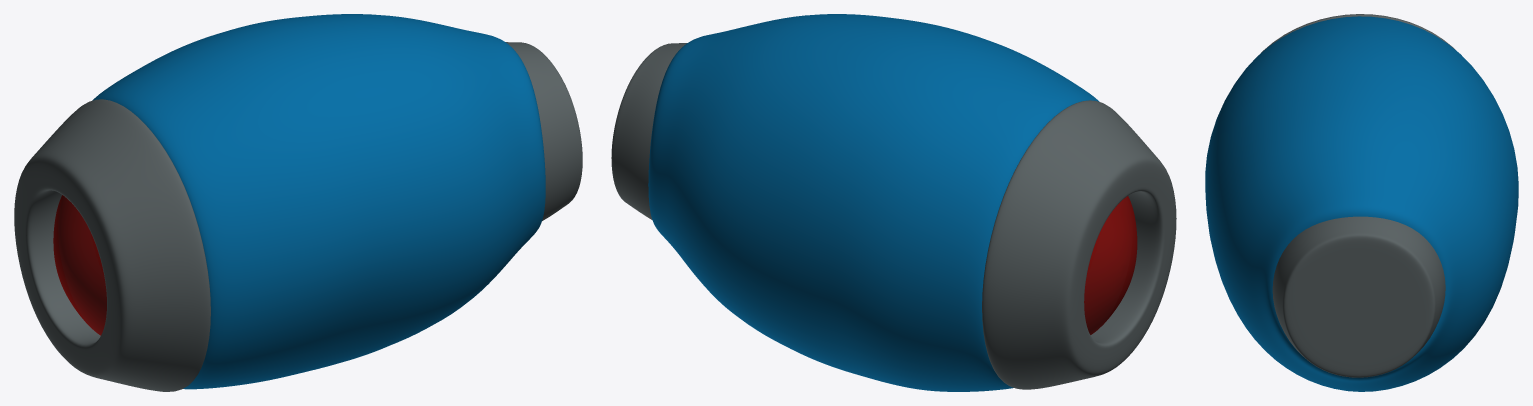
File: Shooter_Player.fbx
3 views of the same model, side by side, from view 1: azimuth 30°, elevation 25°; view 2: azimuth 150°, elevation 25°; view 3: azimuth 270°, elevation 25° (orthographic). The views are drawn at different scales.
Visible parts, largest first — view 1: megaman; view 2: megaman; view 3: megaman.
Part boxes in pixels (x1,y1,x2,y2): megaman: [14, 14, 582, 391]; megaman: [611, 14, 1176, 391]; megaman: [1205, 14, 1518, 391].
Size of the model in its own units: 117 by 76.17 by 70.93.
